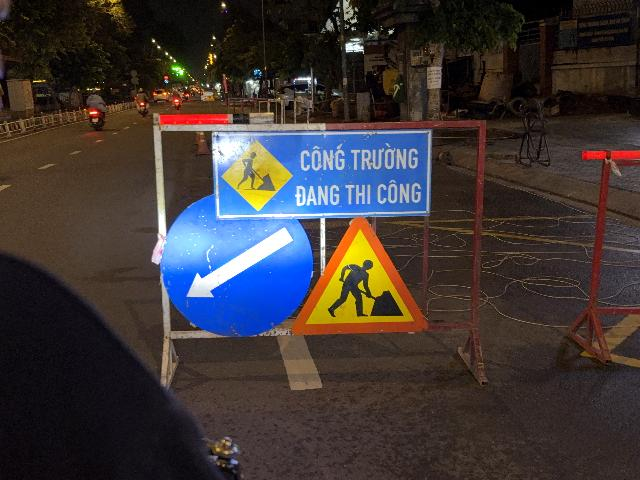cong-truong-dang-thi-cong: (290, 215, 429, 336)
huong-phai-di-vong-chuong-ngai-vat: (160, 194, 315, 337)
